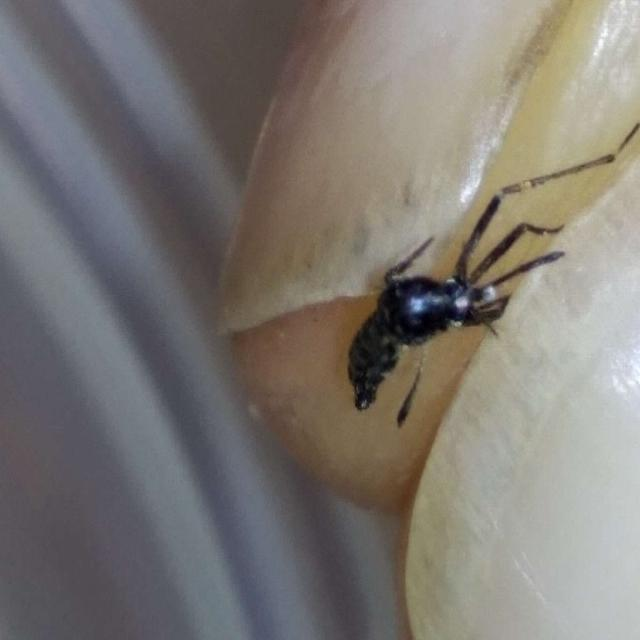albopictus: (324, 90, 640, 418)
